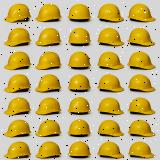Helmet: (3, 3, 32, 23), (127, 2, 156, 22), (3, 27, 32, 47), (3, 50, 32, 70), (126, 27, 156, 46), (127, 51, 156, 70), (3, 74, 32, 93), (3, 97, 32, 116), (97, 27, 125, 46), (97, 51, 125, 70), (3, 140, 32, 158), (3, 120, 32, 138), (35, 3, 62, 22), (97, 3, 124, 22), (35, 27, 62, 46), (35, 51, 62, 70), (128, 74, 156, 92), (34, 74, 62, 92), (127, 97, 156, 114), (96, 141, 125, 158), (35, 97, 62, 115), (97, 74, 124, 92), (97, 97, 124, 115), (128, 141, 156, 158), (128, 120, 156, 137), (35, 141, 62, 158), (35, 120, 62, 136), (97, 120, 124, 136), (67, 3, 92, 20), (67, 27, 92, 44), (68, 51, 92, 68), (67, 119, 91, 135), (67, 96, 91, 112), (68, 74, 92, 90), (67, 141, 91, 156)
